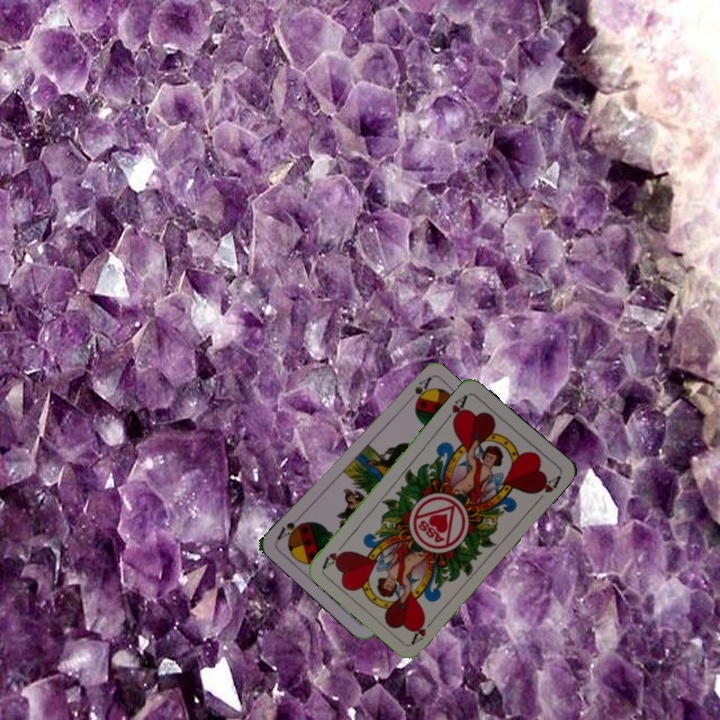HA: (407, 612, 439, 646), (441, 390, 470, 427)
SA: (410, 373, 434, 404)
